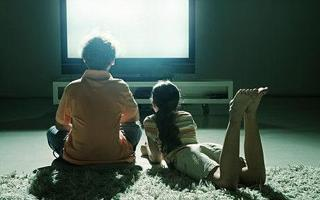person: (47, 38, 141, 166)
